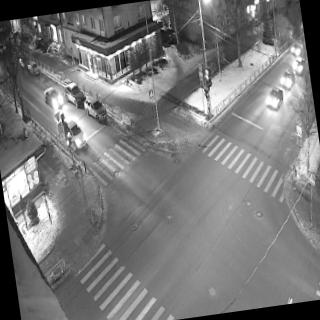small-vehicle: (58, 120, 89, 154), (83, 91, 111, 123), (62, 77, 86, 106), (42, 84, 64, 113), (263, 81, 282, 111), (276, 63, 294, 91), (24, 57, 44, 79), (292, 57, 304, 72), (290, 41, 302, 55)
